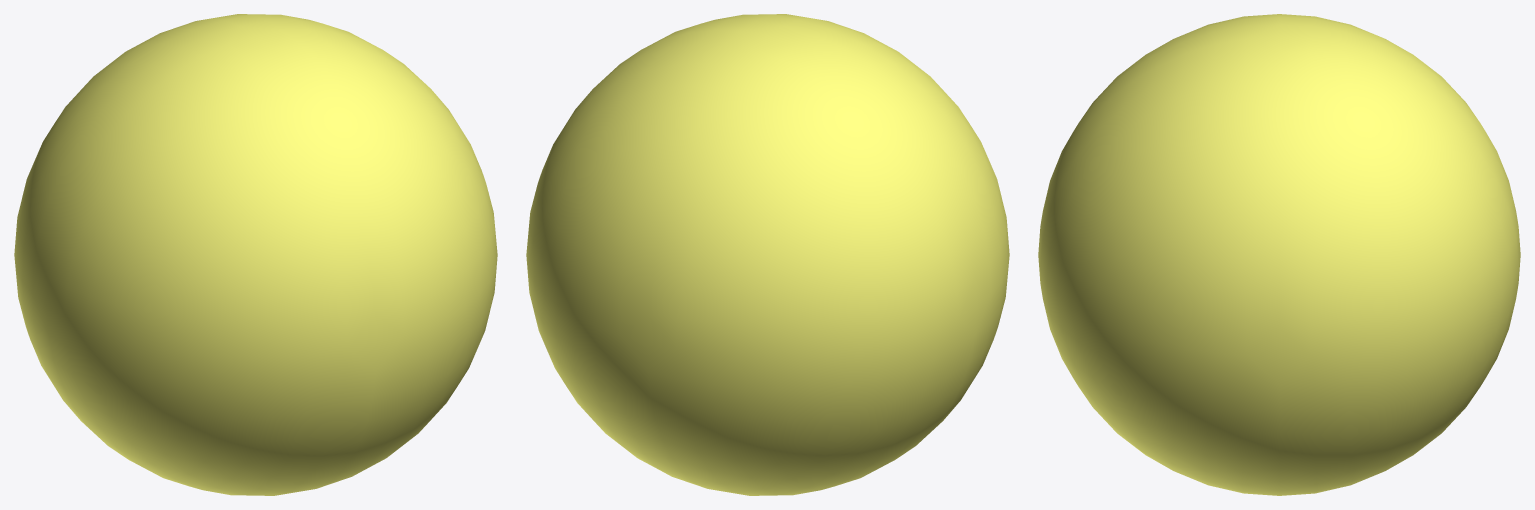
3 renders of one model, left to right at view 1: azimuth 30°, elevation 25°; view 2: azimuth 150°, elevation 25°; view 3: azimuth 270°, elevation 25°, orthographic.
Parts seen in each view (by area): view 1: 52629.dat; view 2: 52629.dat; view 3: 52629.dat.
Part boxes in pixels (x1,y1,x2,y2): 52629.dat: (14, 14, 497, 495); 52629.dat: (526, 14, 1009, 495); 52629.dat: (1038, 14, 1520, 495).
Size of the model in its own units: 0.0192 by 0.0192 by 0.0192.
